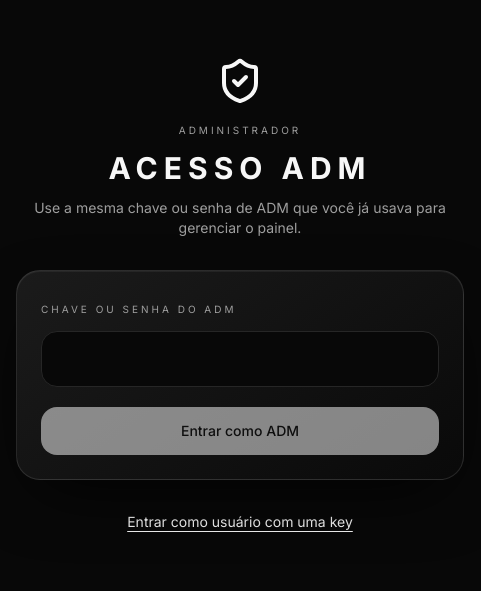
Test: acessos de usuário e ADM › senha ADM inválida mantém o formulário e não libera painel
Type "senha-invalida" into the password field labelled "Chave ou senha do ADM" at (240, 358), box x1=41 y1=330 x2=439 y2=386
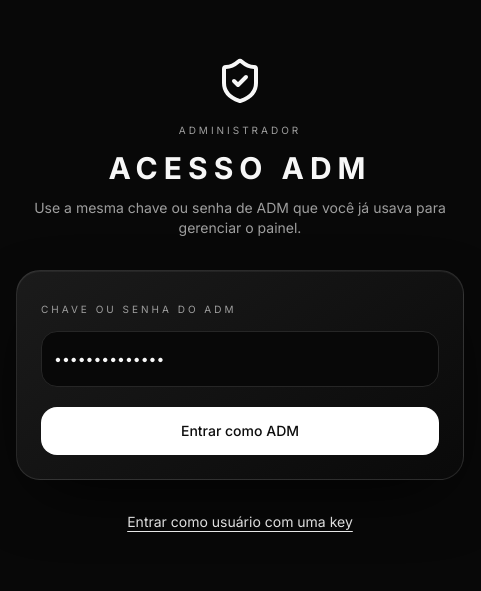
Submit the form named "Login de administrador", box x1=16 y1=270 x2=464 y2=480
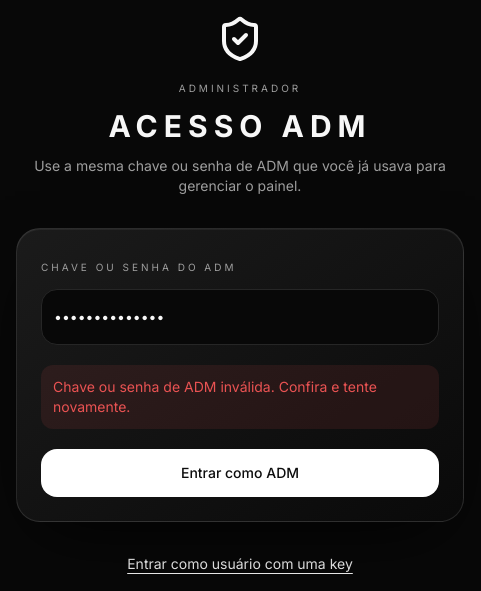
Check: the message "Chave ou senha de ADM inválida. Confira e tente novamente." is shown, box x1=41 y1=364 x2=439 y2=428
